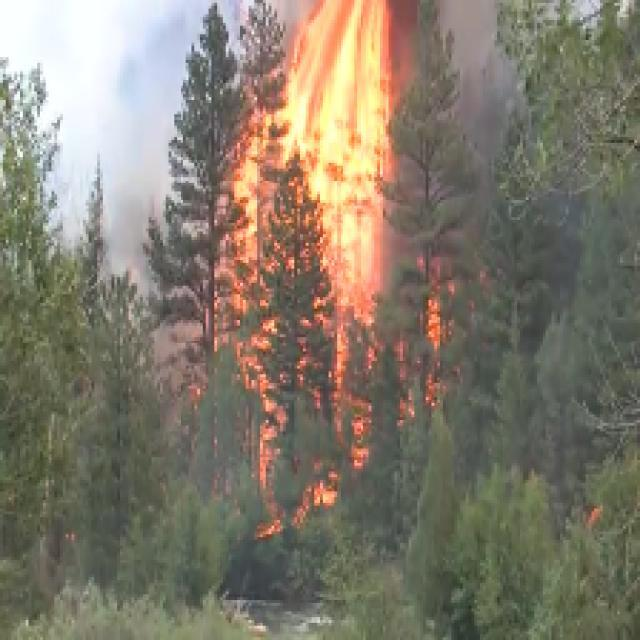Fire: (264, 1, 392, 309)
